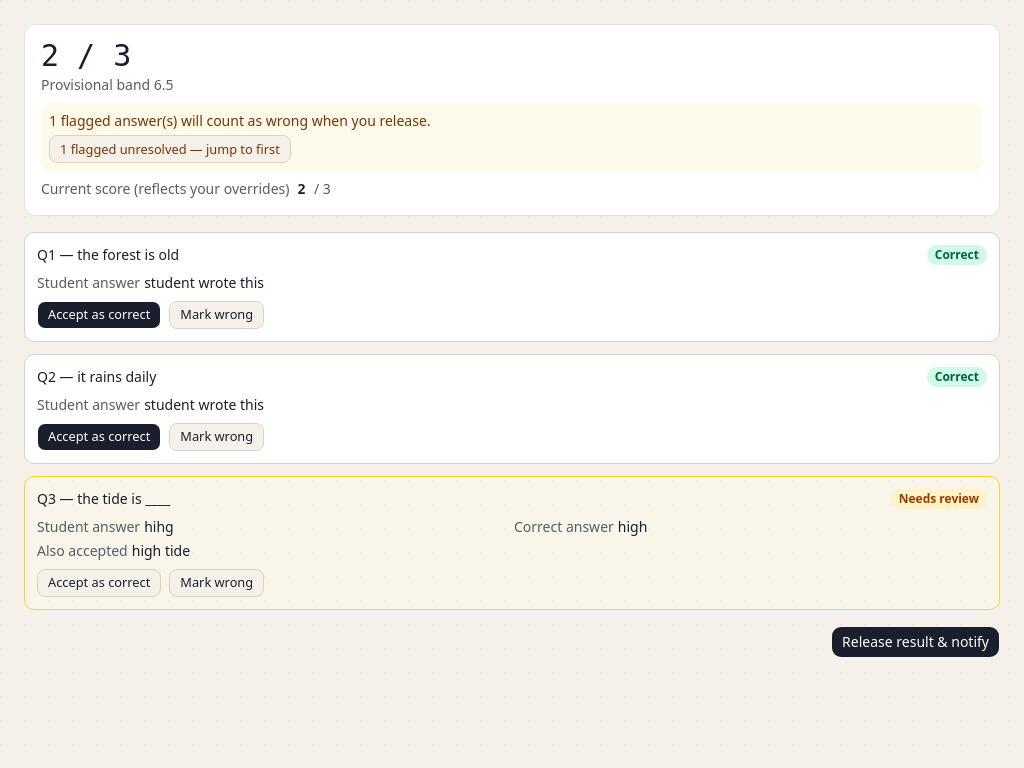
Test case: ObjectiveGradingPage — release reckoning dialog (AC10) › [P1] AC10 — with unresolved needs_review the dialog shows the flagged count + the provisional→released delta, released LAST; confirm releases + remounts read-on
Click the button "Release result & notify" at (916, 642), box 831,626 -> 1000,658
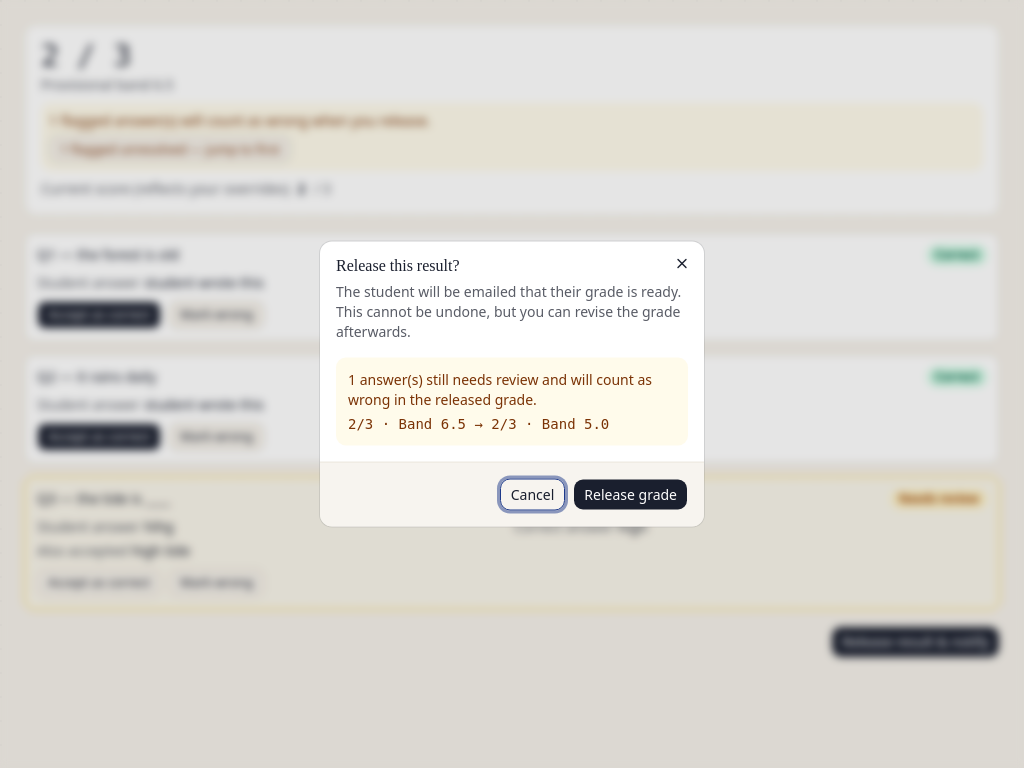
Result: the text with test id "objective-release-projection" shows "6.5" at 348,416 -> 609,432
Result: the text with test id "objective-release-projection" shows "5" at 348,416 -> 609,432
Click the button "Release grade" at (631, 494), box 573,478 -> 688,510
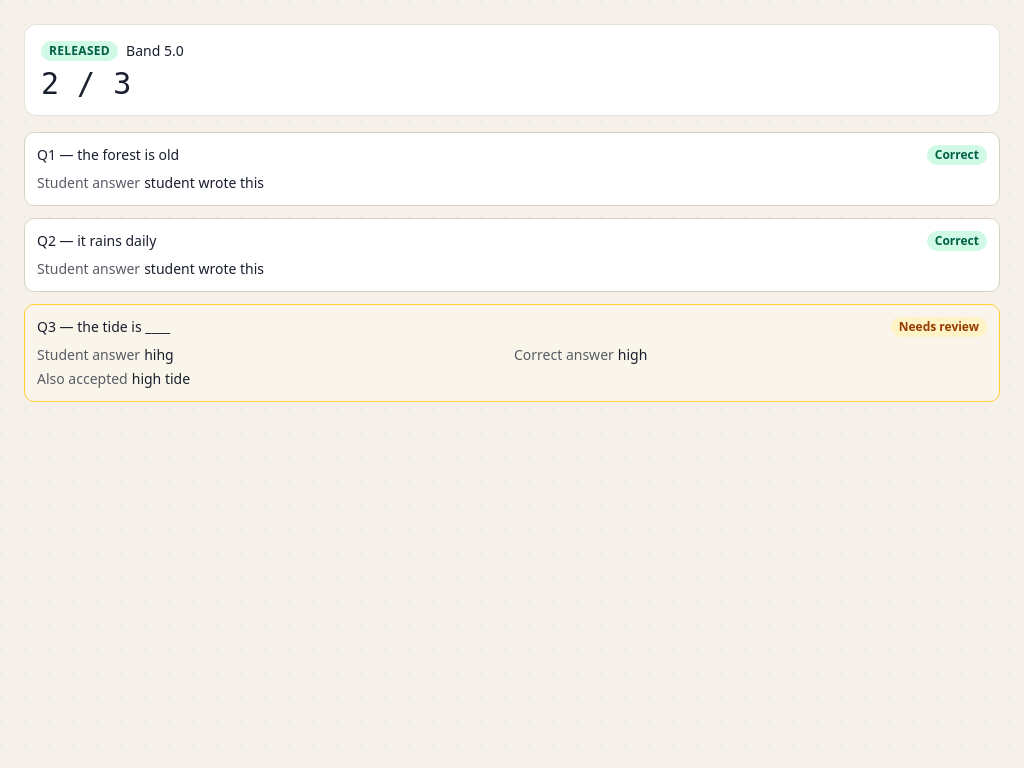
Result: the element with test id "objective-released-badge" is shown at 41,41 -> 184,61
